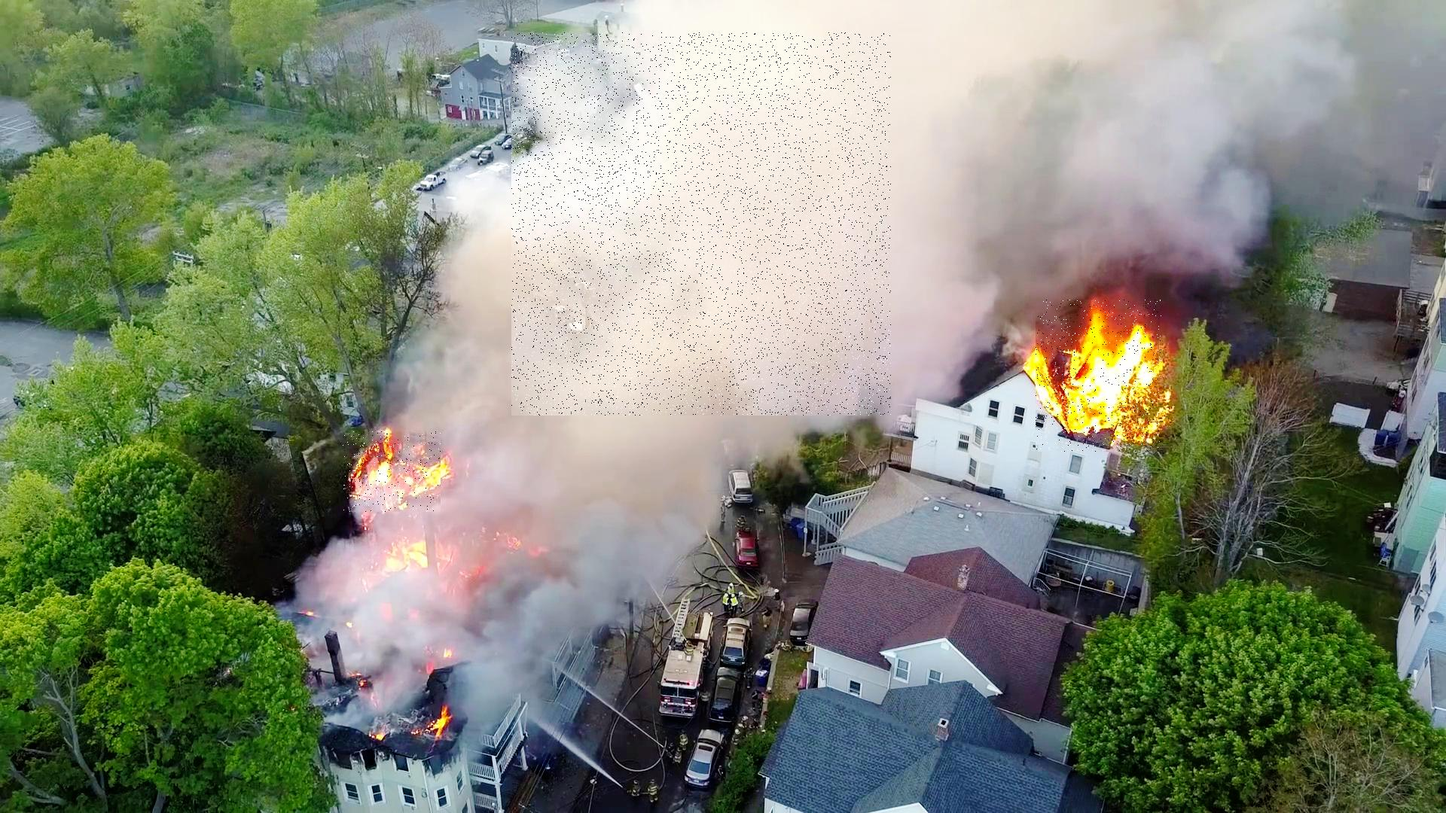fire: (1036, 300, 1162, 452), (343, 431, 441, 512)
smoke: (511, 33, 891, 416)
